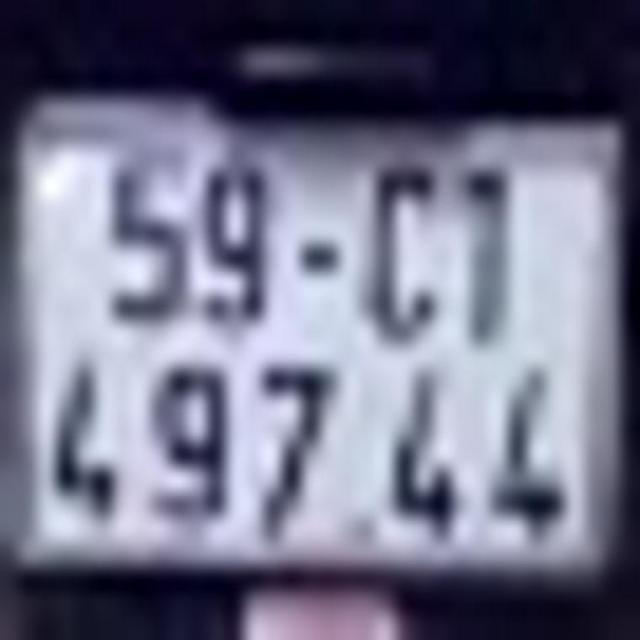1: (459, 165, 517, 348)
4: (481, 357, 570, 556), (384, 360, 460, 554), (49, 358, 121, 540)
5: (103, 145, 192, 329)
7: (245, 354, 343, 551)
9: (142, 353, 235, 546), (201, 156, 275, 342)
C: (359, 158, 451, 358)
